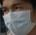with_mask: (1, 2, 36, 35)
